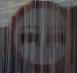No overtake: (10, 6, 67, 60)
